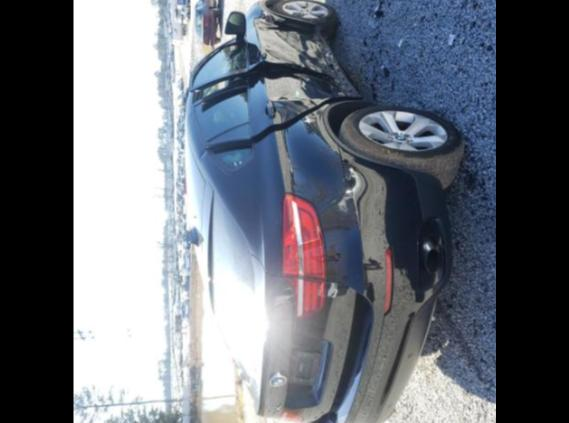Broken part: (193, 65, 364, 153), (188, 29, 339, 105), (312, 27, 361, 96)
Dent: (199, 146, 205, 158)
